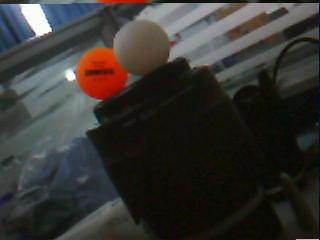oball: (76, 48, 124, 95)
